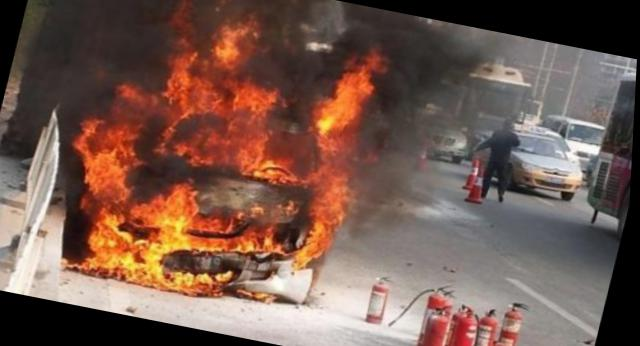fire: (44, 0, 394, 317)
